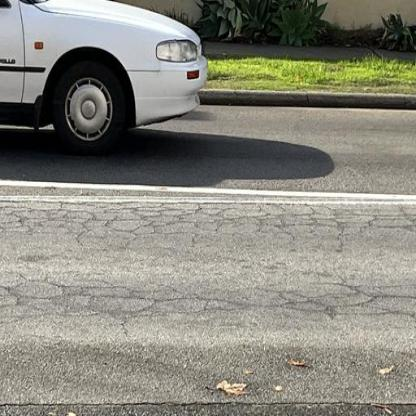Tire: (52, 62, 128, 158)
